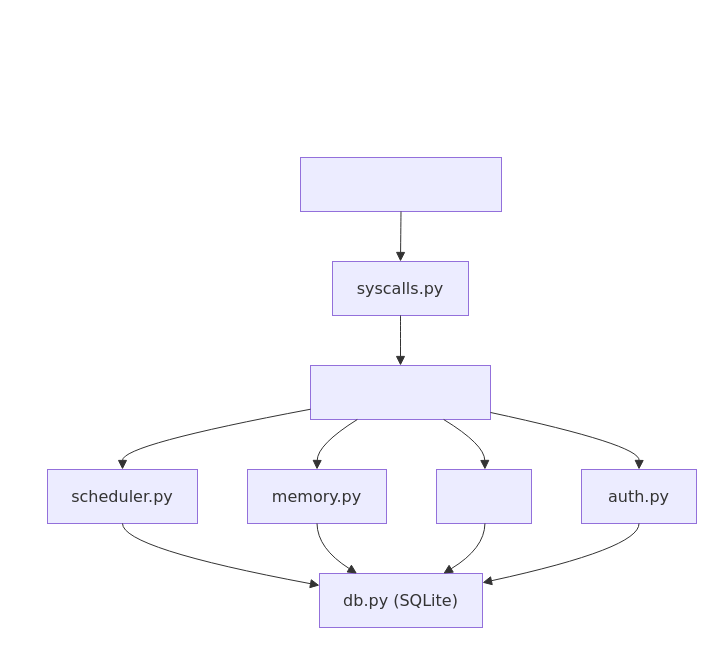
Image size: 714x645. Some labels were removed from this diagram. The box of each missing label's shape, as (x1, y1, x2, y2) in pixels:
fs.py: (436, 468, 532, 524)
kernel.py (ядро): (310, 364, 490, 420)
shell.py (оболочка): (300, 156, 502, 212)
